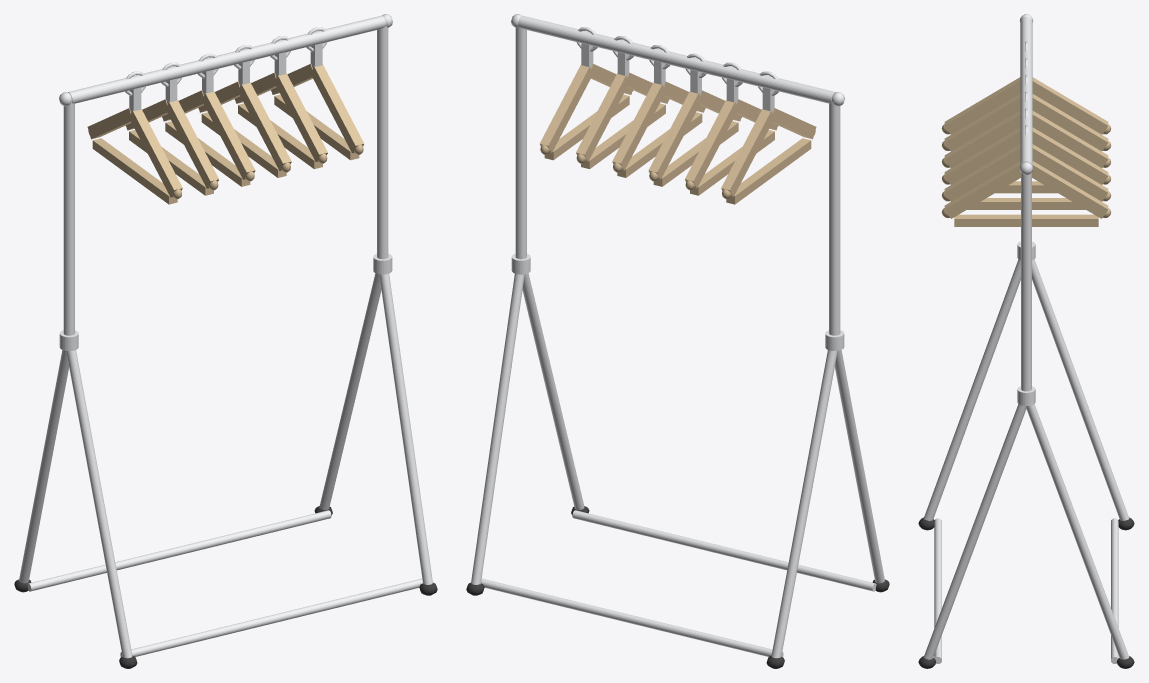
Rendered from GarmentRack.glb.
3 views of the same model, side by side, from view 1: azimuth 30°, elevation 25°; view 2: azimuth 150°, elevation 25°; view 3: azimuth 270°, elevation 25° (orthographic). The views are drawn at different scales.
Parts seen in each view (by area): view 1: Rack_TopBar, Rack_Leg_R_Back, Rack_Leg_L_Back, Rack_Pole_R, Rack_Pole_L, Rack_BottomBar_Front, Rack_BottomBar_Back, Rack_Leg_R_Front, Rack_Leg_L_Front, Hanger_CoatBlack_Slope_B, Hanger_ParkaGreen_Slope_B, Hanger_PufferNavy_Slope_B (+10 smaller); view 2: Rack_TopBar, Rack_Leg_R_Front, Rack_Leg_L_Front, Rack_Pole_R, Rack_Pole_L, Rack_BottomBar_Back, Rack_BottomBar_Front, Rack_Leg_R_Back, Rack_Leg_L_Back, Hanger_ParkaGreen_Slope_F, Hanger_PufferNavy_Slope_F, Hanger_CoatBeige_Slope_F (+10 smaller); view 3: Rack_Leg_R_Back, Rack_Leg_R_Front, Rack_Leg_L_Back, Rack_Leg_L_Front, Rack_Pole_R, Rack_TopBar, Hanger_ParkaGreen_Bar, Hanger_ParkaGreen_Slope_B, Hanger_ParkaGreen_Slope_F, Hanger_CoatCharcoal_Slope_B, Hanger_CoatCharcoal_Slope_F, Hanger_PufferNavy_Slope_B (+11 smaller).
Part boxes in pixels (x1,y1,x2,y2): Rack_TopBar: (68,15,385,103); Rack_Leg_R_Back: (379,273,432,584); Rack_Leg_L_Back: (66,350,132,658); Rack_Pole_R: (377,25,388,259); Rack_Pole_L: (63,102,74,335); Rack_BottomBar_Front: (27,510,331,591); Rack_BottomBar_Back: (120,578,422,657); Rack_Leg_R_Front: (319,273,381,509); Rack_Leg_L_Front: (19,350,68,583); Hanger_CoatBlack_Slope_B: (165,100,218,188); Hanger_ParkaGreen_Slope_B: (310,64,364,153); Hanger_PufferNavy_Slope_B: (274,73,327,161); Rack_TopBar: (518,15,835,103); Rack_Leg_R_Front: (471,273,524,584); Rack_Leg_L_Front: (771,350,837,658); Rack_Pole_R: (515,25,526,259); Rack_Pole_L: (829,102,840,335); Rack_BottomBar_Back: (572,510,876,591); Rack_BottomBar_Front: (481,578,783,657); Rack_Leg_R_Back: (522,273,584,509); Rack_Leg_L_Back: (835,350,884,583); Hanger_ParkaGreen_Slope_F: (539,64,593,153); Hanger_PufferNavy_Slope_F: (576,73,629,161); Hanger_CoatBeige_Slope_F: (648,91,702,179); Rack_Leg_R_Back: (923,404,1026,659); Rack_Leg_R_Front: (1026,404,1129,659); Rack_Leg_L_Back: (923,259,1020,520); Rack_Leg_L_Front: (1032,259,1129,520); Rack_Pole_R: (1021,172,1031,391); Rack_TopBar: (1020,16,1032,165); Hanger_ParkaGreen_Bar: (954,214,1098,226); Hanger_ParkaGreen_Slope_B: (944,161,1020,218); Hanger_ParkaGreen_Slope_F: (1032,161,1108,218); Hanger_CoatCharcoal_Slope_B: (944,127,1020,184); Hanger_CoatCharcoal_Slope_F: (1032,127,1108,184); Hanger_PufferNavy_Slope_B: (944,144,1020,201).
Bounding box in the file's own units: 1.01 × 1.57 × 0.6.
